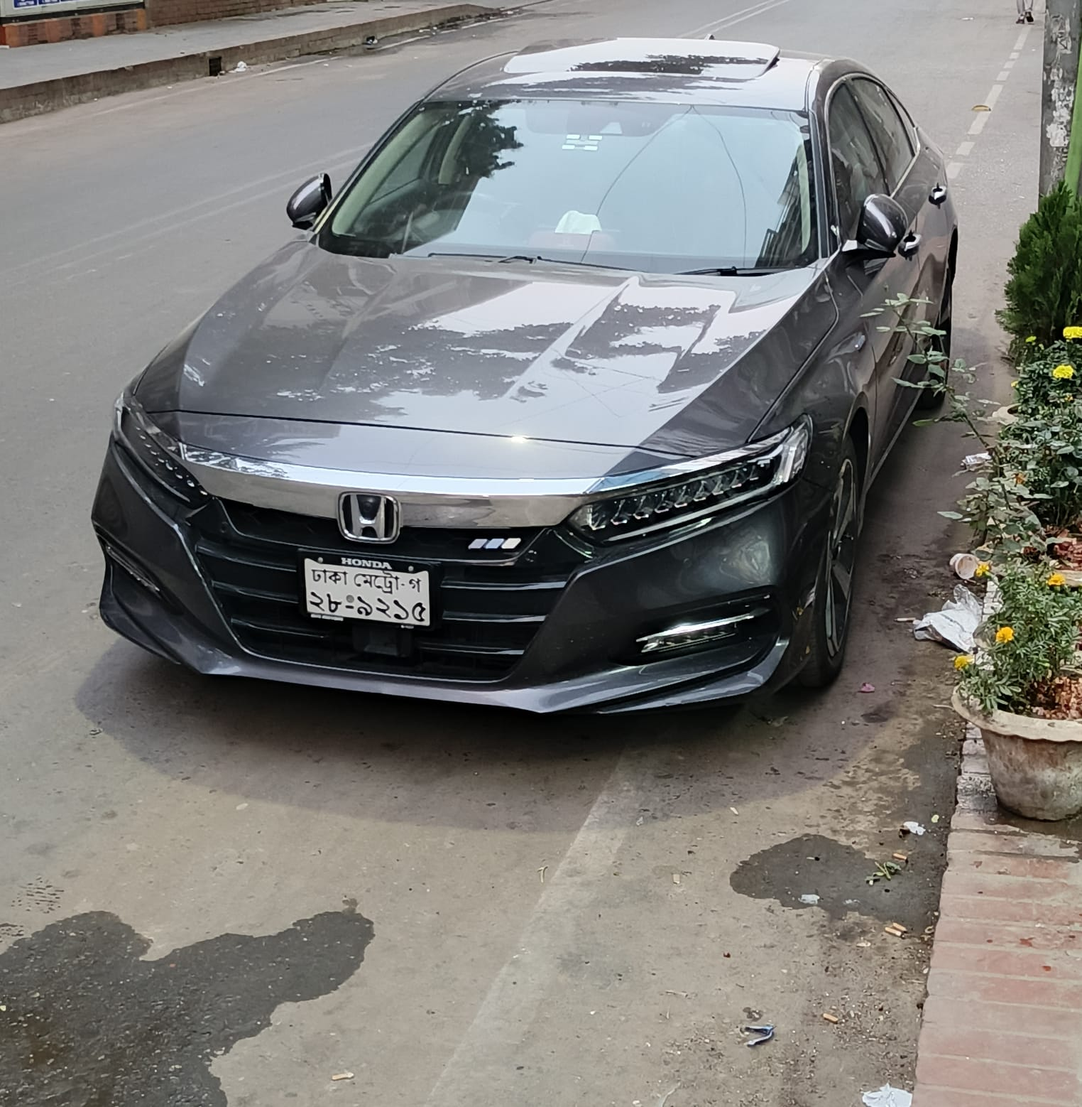private car: (71, 22, 1082, 754)
